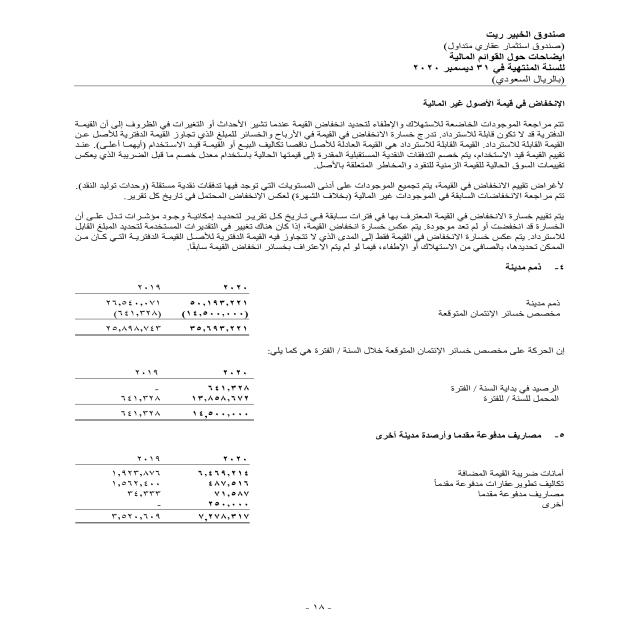notes: (447, 51, 572, 62)
table: (40, 272, 264, 354), (61, 448, 254, 535), (60, 360, 266, 434)
